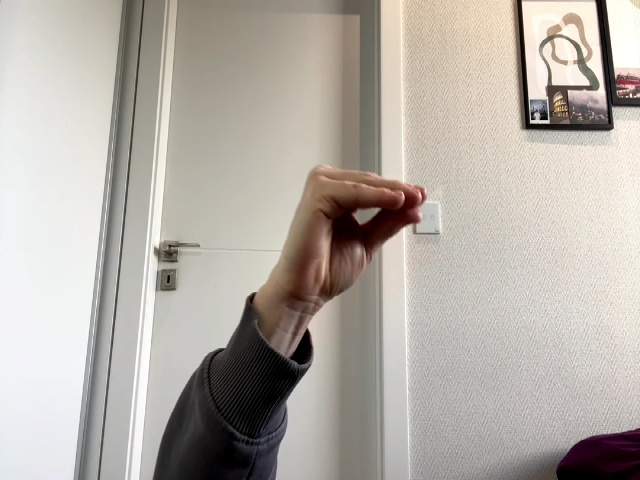E: (276, 166, 427, 296)
